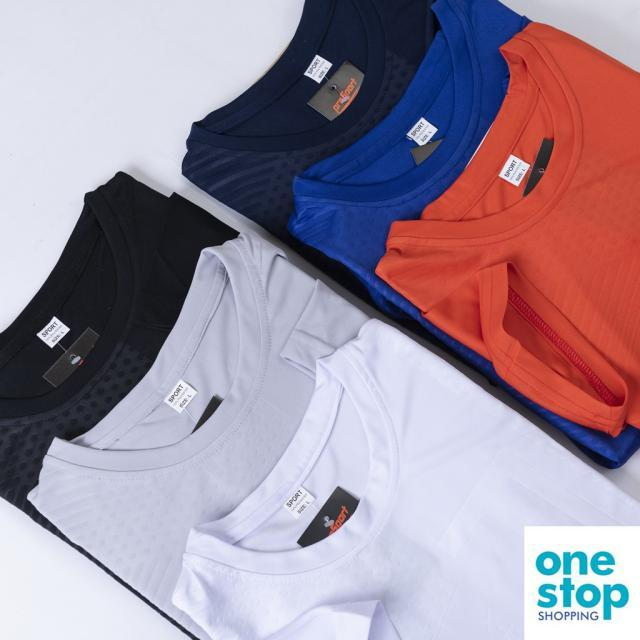Shirt: (25, 225, 402, 640), (179, 0, 552, 406), (169, 318, 639, 640), (0, 167, 305, 639), (370, 19, 640, 436)
